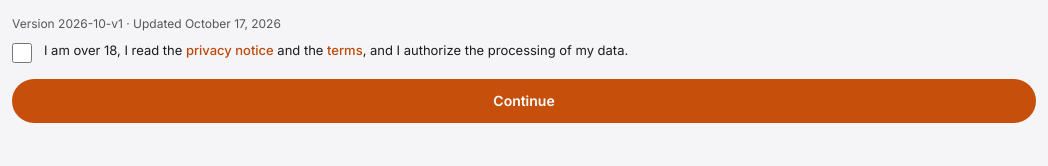
it: ConsentForm › sin la casilla muestra el error y no guarda
The width and height of the screenshot is (1048, 166).
What coordinates should you click on to do the following:
click the button "Continue"
I would click on:
 (524, 101)
Its box is [12, 79, 1036, 123].
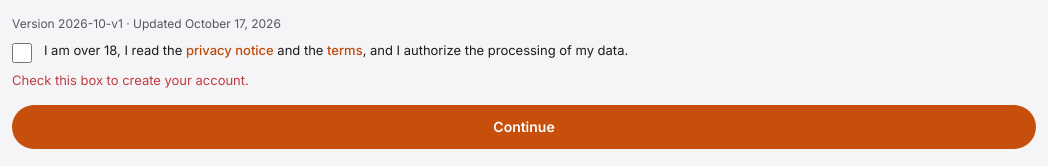
Expected: the text "Version 2026-10-v1 · Updated October 17, 2026" is shown, [12, 16, 281, 31]
Now the message reads "Check this box to create your account.", box [12, 72, 249, 88]
